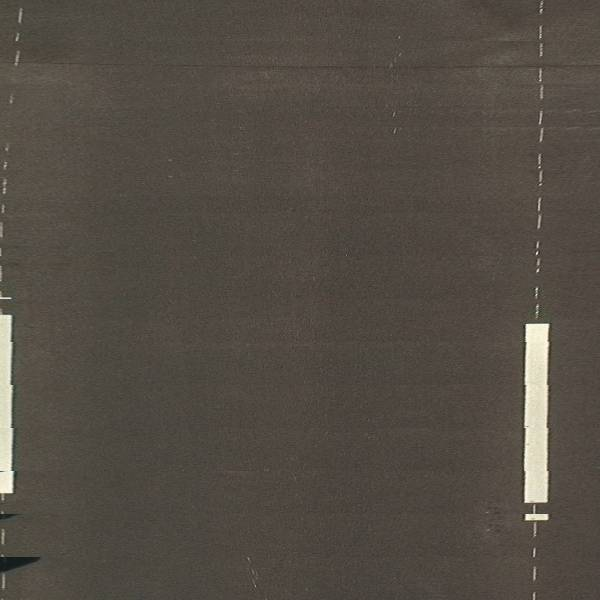road_damage: (176, 58, 532, 83)
